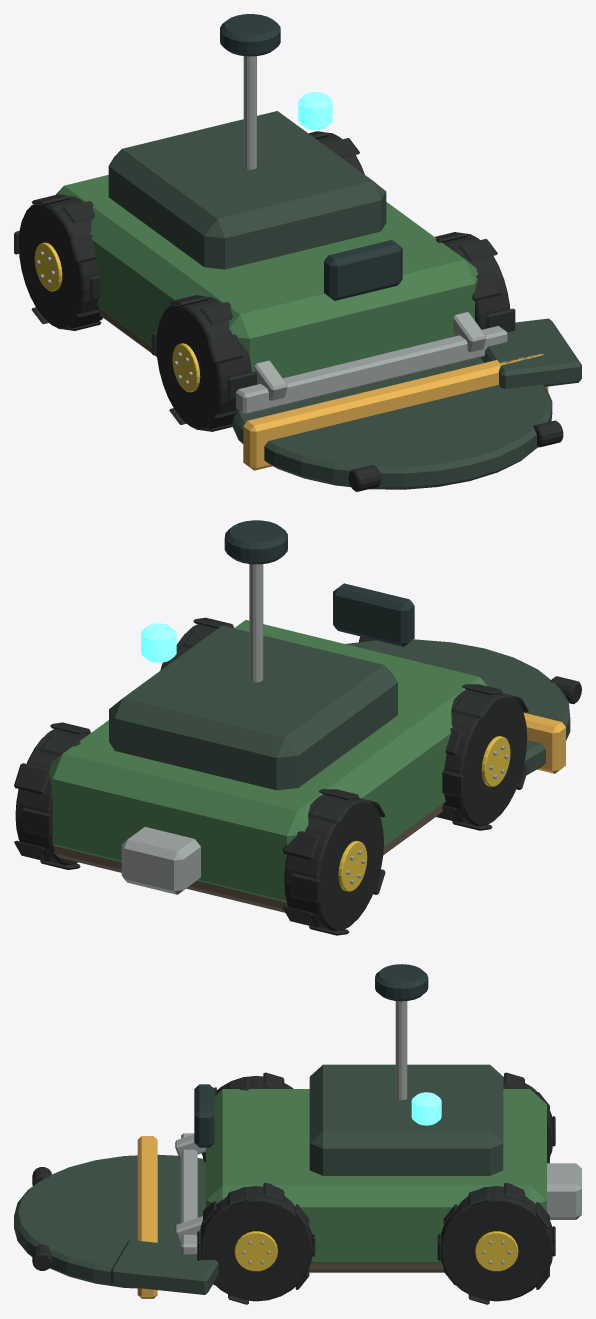
The model's file is fieldvision-maintenance-vehicle.glb.
The picture shows the model from 3 angles, top to bottom: view 1: azimuth 30°, elevation 25°; view 2: azimuth 150°, elevation 25°; view 3: azimuth 270°, elevation 25°; orthographic projection. The views are drawn at different scales.
Visible parts, largest first — view 1: MaintenanceBase, BatteryCover, MowerDeck, MaintenanceWheel_-0.78_-0.72, MaintenanceWheel_-0.78_0.72, SafetySkirt, FrontBumperBar, DischargeChute, FrontCamera, MaintenanceWheel_0.78_-0.72, Lidar, SensorMast (+8 smaller); view 2: MaintenanceBase, BatteryCover, MaintenanceWheel_-0.78_0.72, MaintenanceWheel_-0.78_-0.72, MowerDeck, MaintenanceWheel_0.78_0.72, RearTowPoint, FrontCamera, Lidar, MaintenanceMudBand, SensorMast, SafetySkirt (+4 smaller); view 3: MaintenanceBase, BatteryCover, MowerDeck, MaintenanceWheel_0.78_0.72, MaintenanceWheel_0.78_-0.72, DischargeChute, SafetySkirt, RearTowPoint, Lidar, FrontBumperBar, MaintenanceHub_0.78_-0.72, MaintenanceHub_0.78_0.72 (+7 smaller).
Part boxes in pixels (bbox=[...]): MaintenanceBase: bbox=[56, 175, 478, 384]; BatteryCover: bbox=[108, 111, 386, 269]; MowerDeck: bbox=[231, 357, 552, 489]; MaintenanceWheel_-0.78_-0.72: bbox=[151, 295, 256, 431]; MaintenanceWheel_-0.78_0.72: bbox=[14, 194, 102, 330]; SafetySkirt: bbox=[243, 354, 548, 470]; FrontBumperBar: bbox=[236, 326, 507, 414]; DischargeChute: bbox=[480, 318, 581, 388]; FrontCamera: bbox=[324, 240, 402, 300]; MaintenanceWheel_0.78_-0.72: bbox=[435, 232, 515, 332]; Lidar: bbox=[220, 14, 280, 56]; SensorMast: bbox=[243, 56, 256, 169]; MaintenanceBase: bbox=[49, 620, 488, 902]; BatteryCover: bbox=[109, 625, 397, 790]; MaintenanceWheel_-0.78_0.72: bbox=[283, 789, 385, 935]; MaintenanceWheel_-0.78_-0.72: bbox=[436, 684, 528, 830]; MowerDeck: bbox=[346, 639, 570, 775]; MaintenanceWheel_0.78_0.72: bbox=[14, 722, 91, 869]; RearTowPoint: bbox=[121, 827, 200, 894]; FrontCamera: bbox=[333, 583, 414, 646]; Lidar: bbox=[224, 520, 287, 564]; MaintenanceMudBand: bbox=[54, 804, 443, 912]; SensorMast: bbox=[249, 564, 263, 682]; SafetySkirt: bbox=[524, 713, 565, 773]; MaintenanceBase: bbox=[206, 1089, 546, 1263]; BatteryCover: bbox=[309, 1064, 503, 1175]; MowerDeck: bbox=[14, 1154, 205, 1288]; MaintenanceWheel_0.78_0.72: bbox=[437, 1182, 555, 1304]; MaintenanceWheel_0.78_-0.72: bbox=[197, 1182, 315, 1304]; DischargeChute: bbox=[111, 1240, 218, 1294]; SafetySkirt: bbox=[137, 1136, 157, 1298]; RearTowPoint: bbox=[547, 1163, 581, 1219]; Lidar: bbox=[375, 964, 428, 1001]; FrontBumperBar: bbox=[181, 1133, 197, 1254]; MaintenanceHub_0.78_-0.72: bbox=[234, 1231, 277, 1271]; MaintenanceHub_0.78_0.72: bbox=[475, 1231, 518, 1271].
Bounding box in the file's own units: 2.06 × 1.77 × 3.4.
